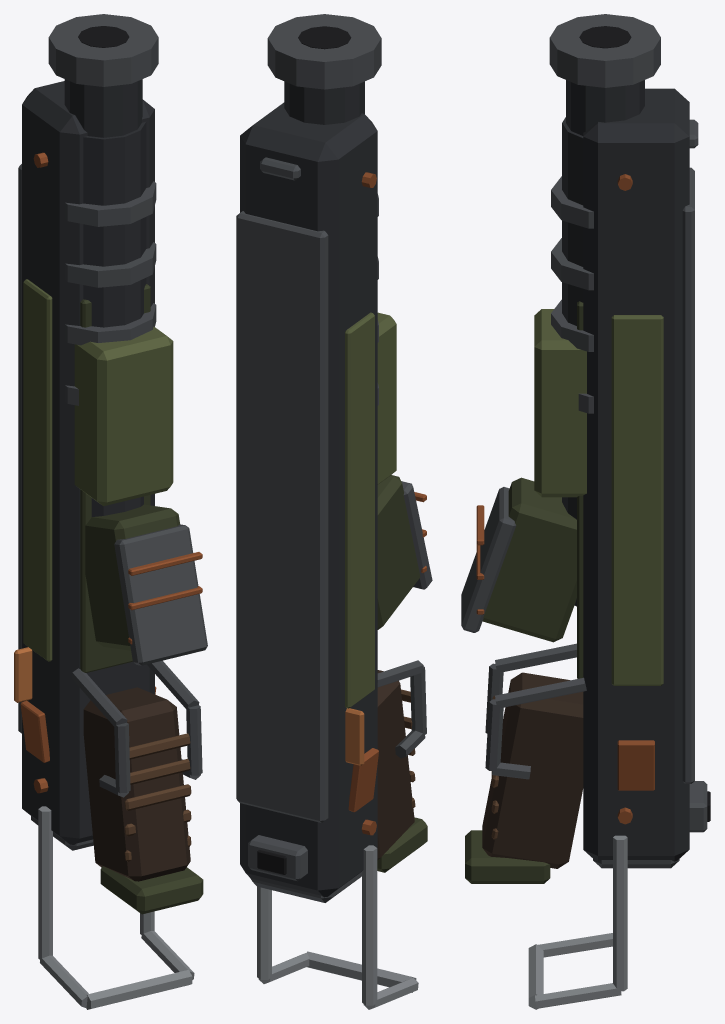
File: weapon_smg.fbx
3 renders of one model, left to right at view 1: azimuth 30°, elevation 25°; view 2: azimuth 150°, elevation 25°; view 3: azimuth 270°, elevation 25°, orthographic. The views are drawn at different scales.
Parts seen in each view (by area): view 1: weapon_smg; view 2: weapon_smg; view 3: weapon_smg.
Part boxes in pixels (x1,y1,x2,y2): weapon_smg: (14,14,207,1009); weapon_smg: (236,14,432,1009); weapon_smg: (461,14,710,1009).
Size of the model in its own units: 0.1161 by 0.8455 by 0.2014.
